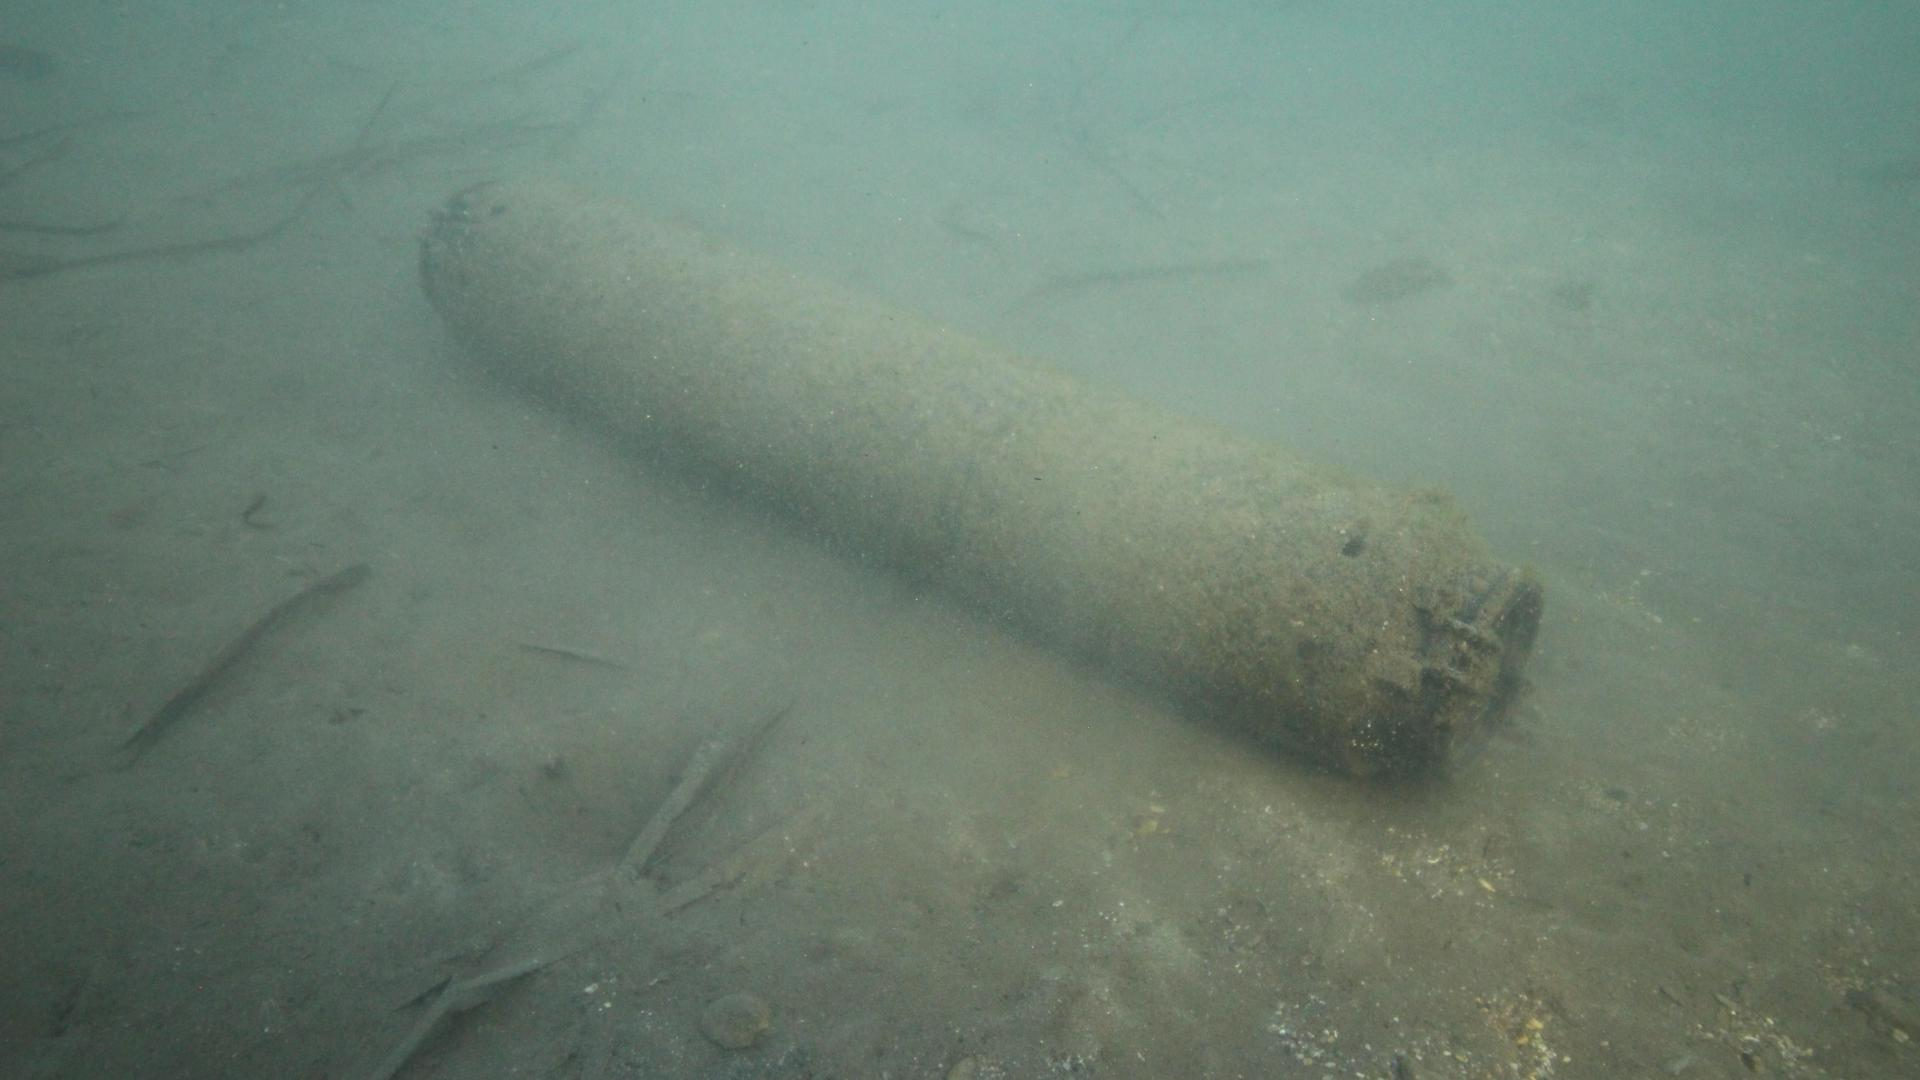eel fish trap: (415, 175, 1542, 781)
